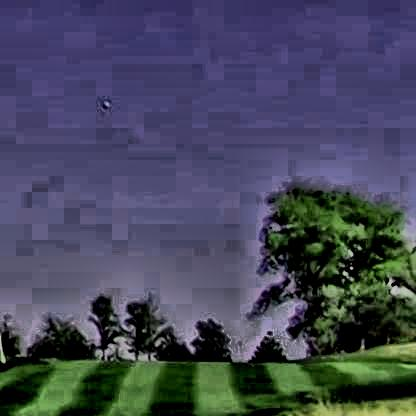golfball: (98, 99, 106, 106)
